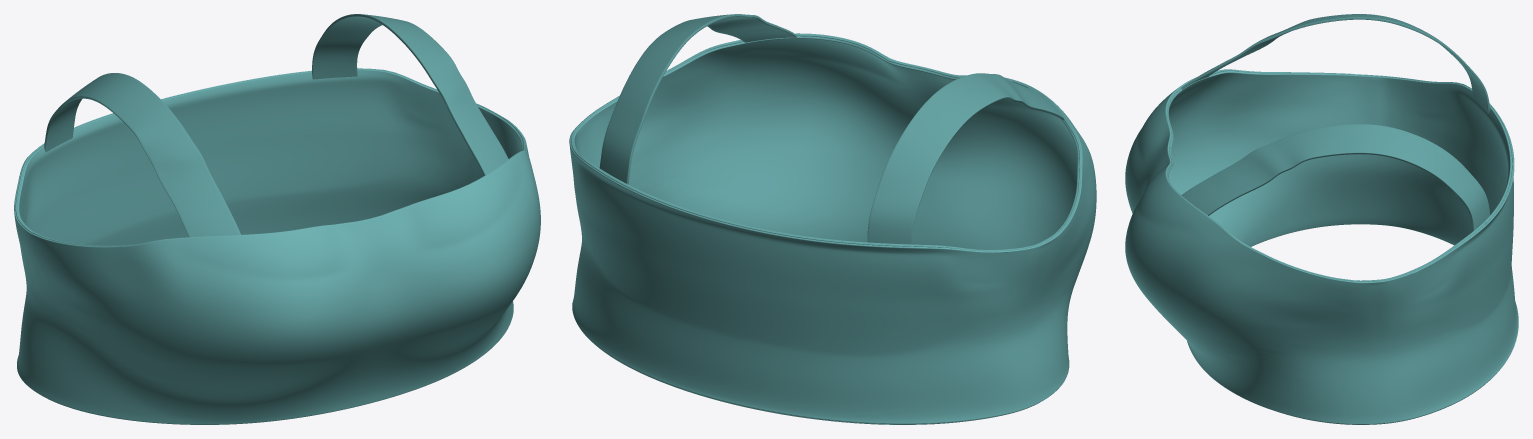
Rendered from Feminine-tank-top.glb.
The picture shows the model from 3 angles, left to right: view 1: azimuth 30°, elevation 25°; view 2: azimuth 150°, elevation 25°; view 3: azimuth 270°, elevation 25°; orthographic projection. The views are drawn at different scales.
Parts seen in each view (by area): view 1: Clothing / tank body, Clothing / Tank seated shoulder strap -1, Clothing / Tank seated shoulder strap 1, Tank / continuous edge199 1 export; view 2: Clothing / tank body, Clothing / Tank seated shoulder strap -1, Clothing / Tank seated shoulder strap 1, Tank / continuous edge199 1 export, Tank / continuous edge199 0 export; view 3: Clothing / tank body, Clothing / Tank seated shoulder strap 1, Clothing / Tank seated shoulder strap -1, Tank / continuous edge199 1 export.
Boxes of the visible parts, <box> form: Clothing / tank body: <box>14,69,540,424</box>; Clothing / Tank seated shoulder strap -1: <box>44,73,240,237</box>; Clothing / Tank seated shoulder strap 1: <box>312,14,508,175</box>; Tank / continuous edge199 1 export: <box>15,68,524,246</box>; Clothing / tank body: <box>569,33,1096,424</box>; Clothing / Tank seated shoulder strap -1: <box>867,73,1064,244</box>; Clothing / Tank seated shoulder strap 1: <box>599,14,796,184</box>; Tank / continuous edge199 1 export: <box>571,34,1080,251</box>; Tank / continuous edge199 0 export: <box>599,348,1038,424</box>; Clothing / tank body: <box>1125,69,1518,424</box>; Clothing / Tank seated shoulder strap 1: <box>1181,124,1489,231</box>; Clothing / Tank seated shoulder strap -1: <box>1181,14,1490,114</box>; Tank / continuous edge199 1 export: <box>1167,70,1513,281</box>.
Size of the model in its own units: 0.6236 by 0.3537 by 0.4978.
